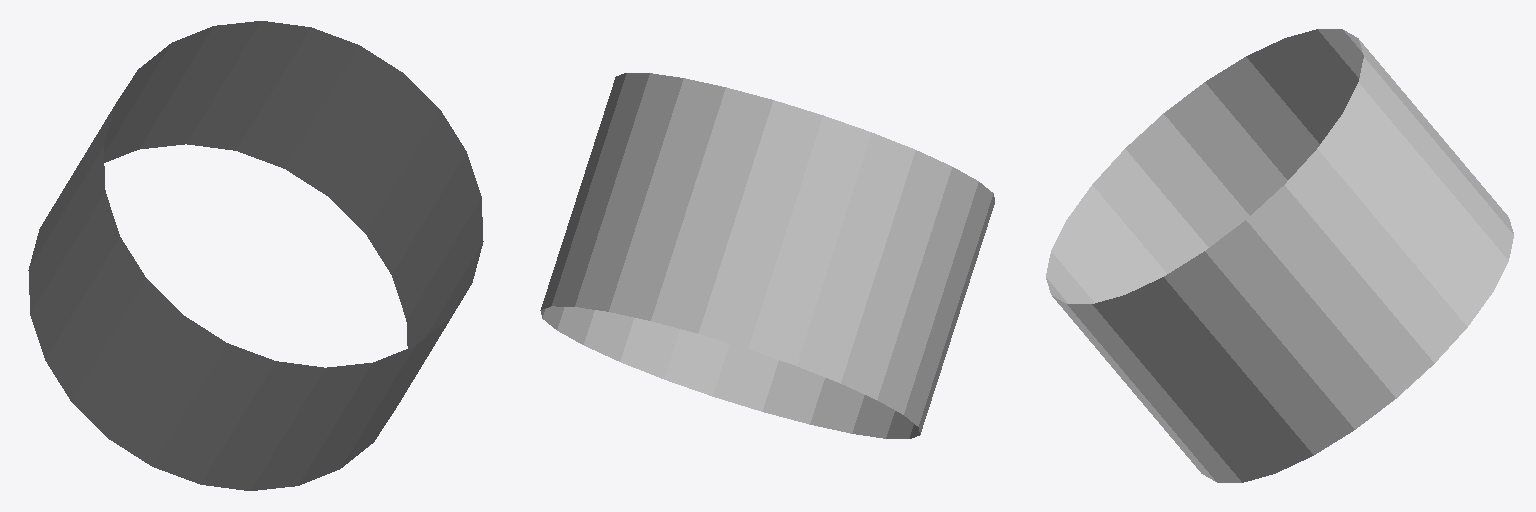
Rendered from original-186.obj.
The picture shows the model from 3 angles: view 1: azimuth 30°, elevation 25°; view 2: azimuth 150°, elevation 25°; view 3: azimuth 270°, elevation 25°; orthographic projection.
Parts seen in each view (by area): view 1: #ID1145; view 2: #ID1145; view 3: #ID1145.
Boxes of the visible parts, <box> form: #ID1145: <box>28,21,483,490</box>; #ID1145: <box>540,73,994,438</box>; #ID1145: <box>1046,29,1513,482</box>.
Size of the model in its own units: 0.006 by 0.0066 by 0.007.